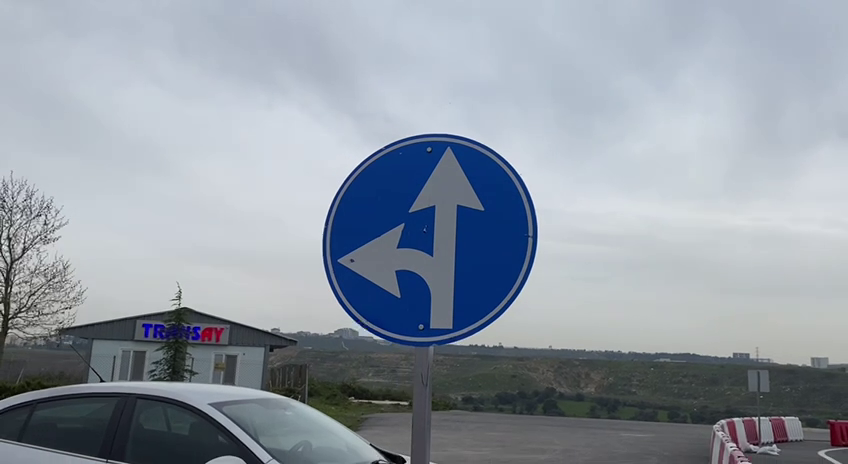forwardAndLeft: (314, 129, 543, 353)
